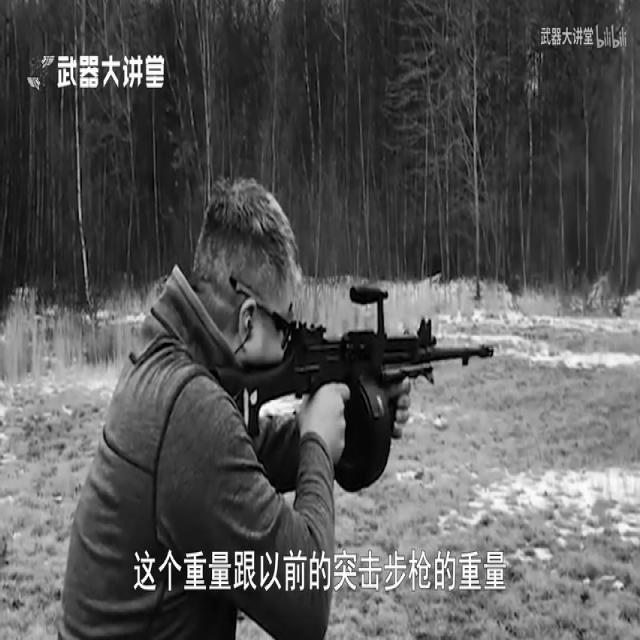Sub-machine-gun: (235, 284, 509, 491)
